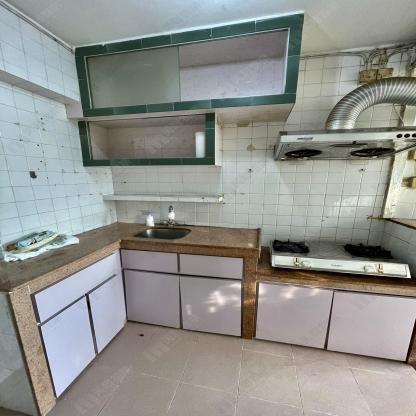Cupboard: (32, 250, 414, 400), (76, 15, 306, 120)
Exhaust Hood: (271, 76, 416, 162)
Faucet: (161, 205, 178, 226)
Sink: (131, 225, 191, 242)
Stove: (270, 237, 413, 279)
